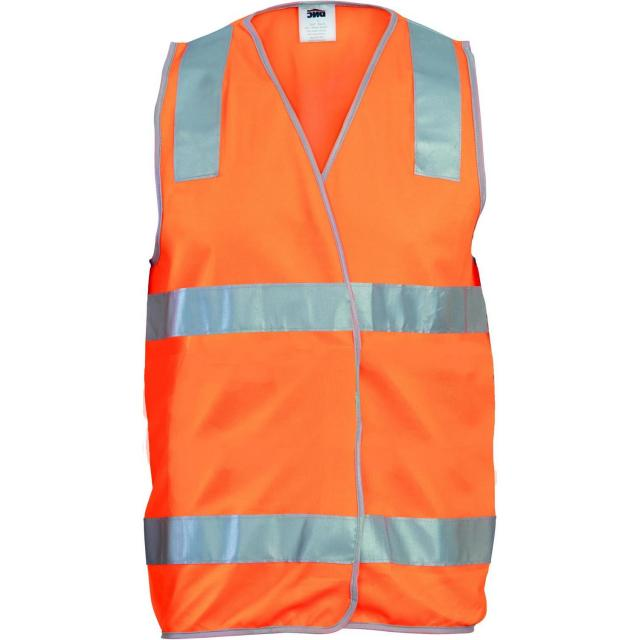Reflective-Jacket: (98, 0, 533, 640)
